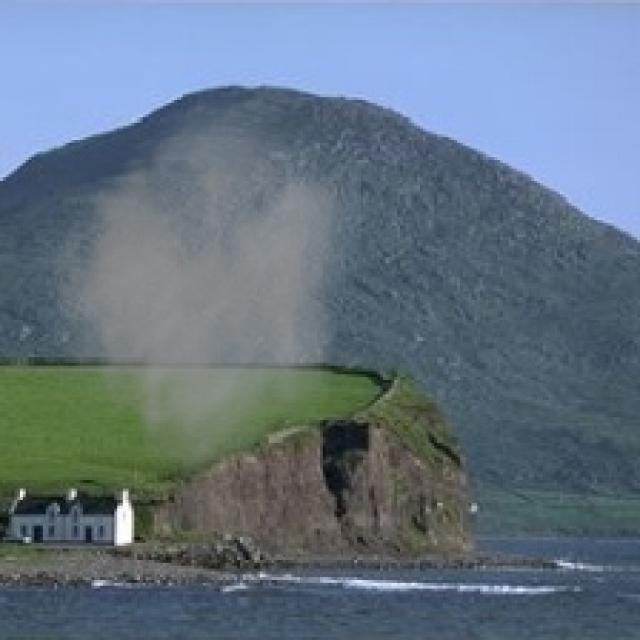smoke: (17, 80, 360, 491)
